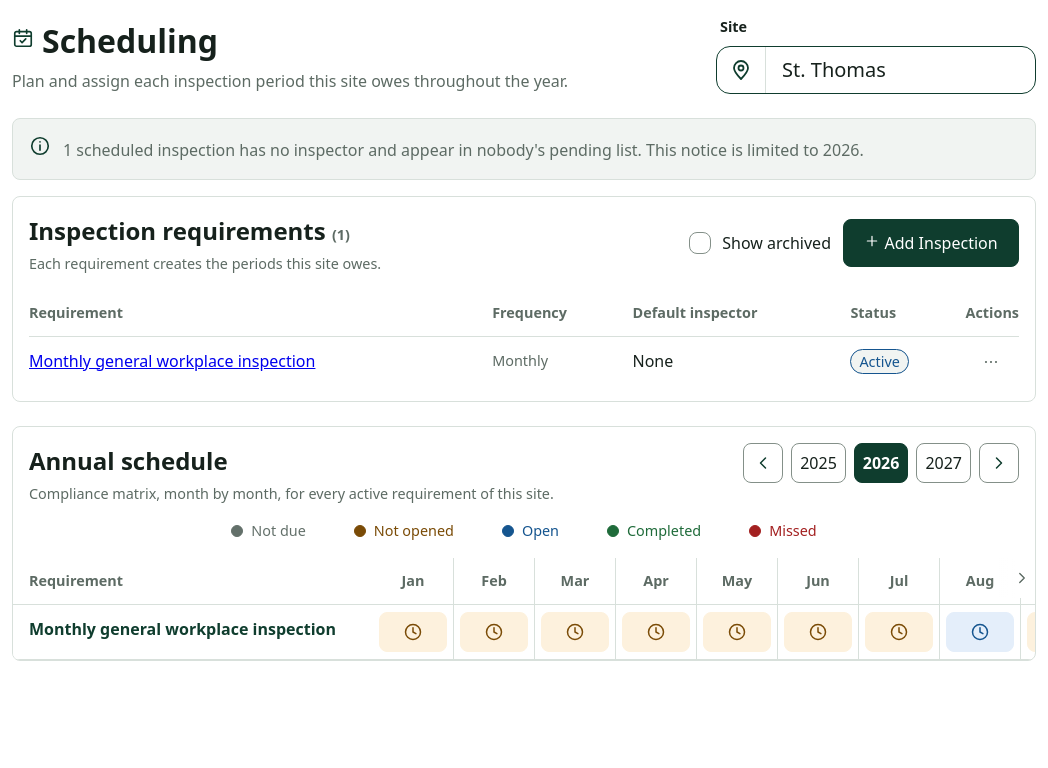
requirements y permisos › oculta archivadas por defecto y permite mostrarlas como filas independientes
Expected: the text "Archived workplace inspection" is not shown
Click the checkbox labelled "Show archived" at [700, 243], box [689,232,711,254]
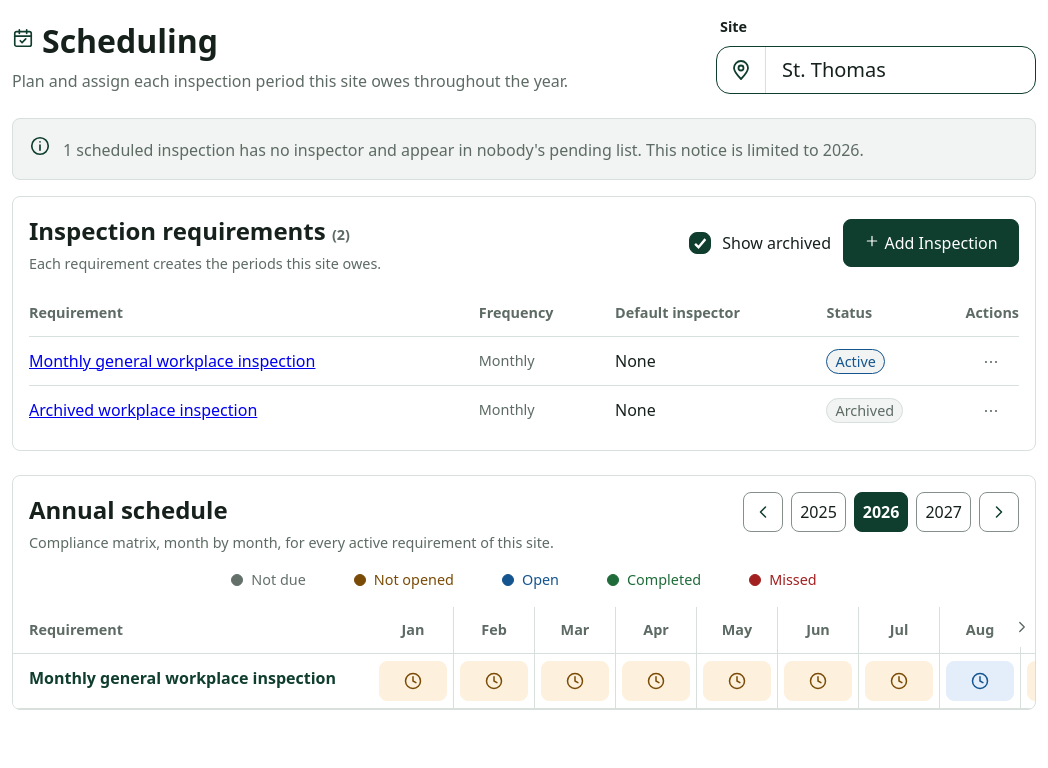
Expected: the link "Archived workplace inspection" is shown, [29,399,257,421]
Expected: the text "Archived" is shown, [826,398,903,423]
